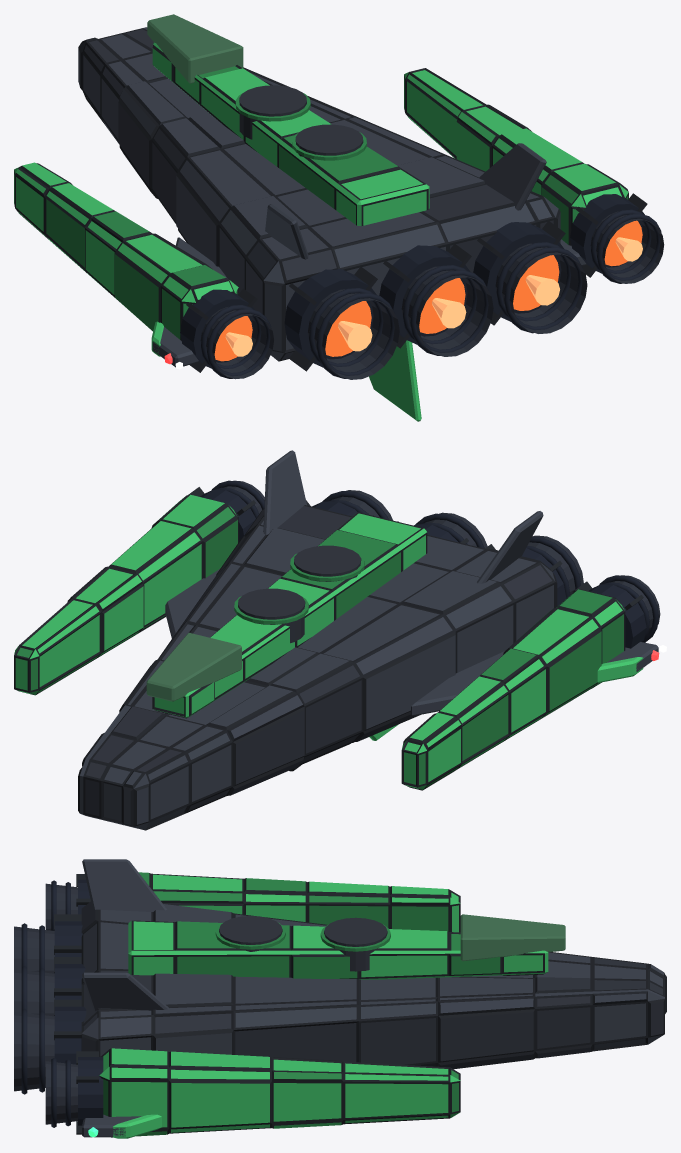
The model's file is raptor.glb.
3 renders of one model, top to bottom at view 1: azimuth 30°, elevation 25°; view 2: azimuth 150°, elevation 25°; view 3: azimuth 270°, elevation 25°, orthographic. The views are drawn at different scales.
Parts seen in each view (by area): view 1: raptor_mesh; view 2: raptor_mesh; view 3: raptor_mesh.
Boxes of the visible parts, x1,y1,x2,y2 form: raptor_mesh: (14, 14, 664, 421); raptor_mesh: (14, 450, 660, 830); raptor_mesh: (14, 859, 666, 1138).
Bounding box in the file's own units: 9.18 × 4.08 × 11.19.
